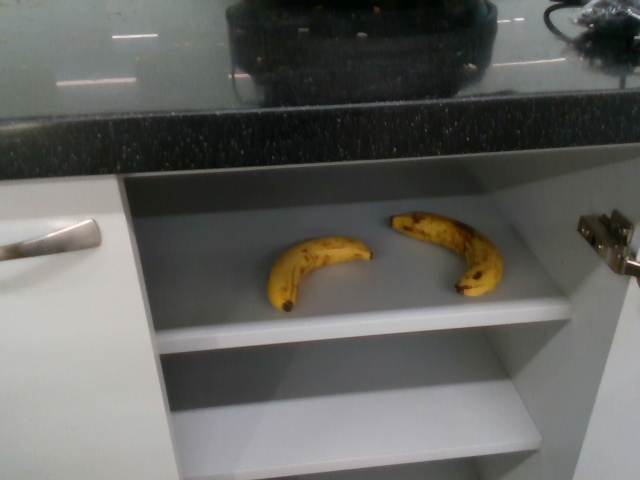banana: (386, 210, 505, 301), (258, 233, 372, 314)
